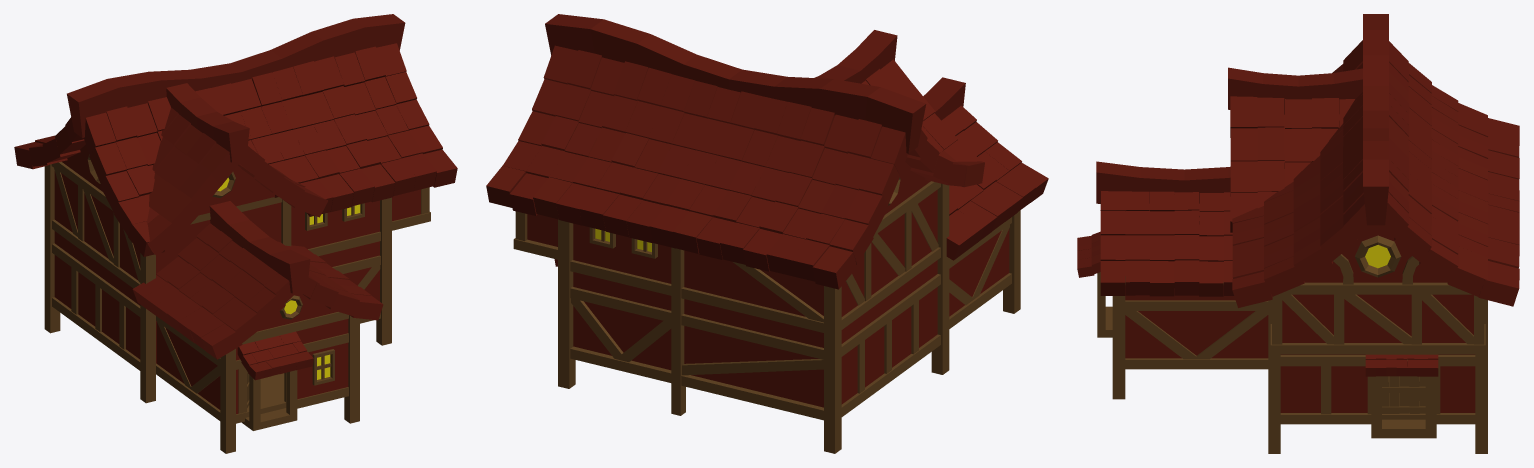
3 views of the same model, side by side, from view 1: azimuth 30°, elevation 25°; view 2: azimuth 150°, elevation 25°; view 3: azimuth 270°, elevation 25° (orthographic). The views are drawn at different scales.
Parts seen in each view (by area): view 1: 对象035, 对象031, 对象030, 对象042; view 2: 对象035, 对象031, 对象030; view 3: 对象035, 对象031, 对象030, Cube.001, 对象042.
Part boxes in pixels (x1,y1,x2,y2): 对象035: [14, 14, 457, 414]; 对象031: [44, 154, 430, 453]; 对象030: [52, 297, 380, 423]; 对象042: [217, 177, 360, 379]; 对象035: [486, 14, 1048, 407]; 对象031: [513, 177, 1020, 453]; 对象030: [570, 273, 1011, 420]; 对象035: [1077, 14, 1519, 412]; 对象031: [1097, 235, 1487, 453]; 对象030: [1125, 358, 1475, 424]; Cube.001: [1382, 376, 1425, 413]; 对象042: [1365, 245, 1390, 268].
Bounding box in the file's own units: 789 × 646 × 854.
